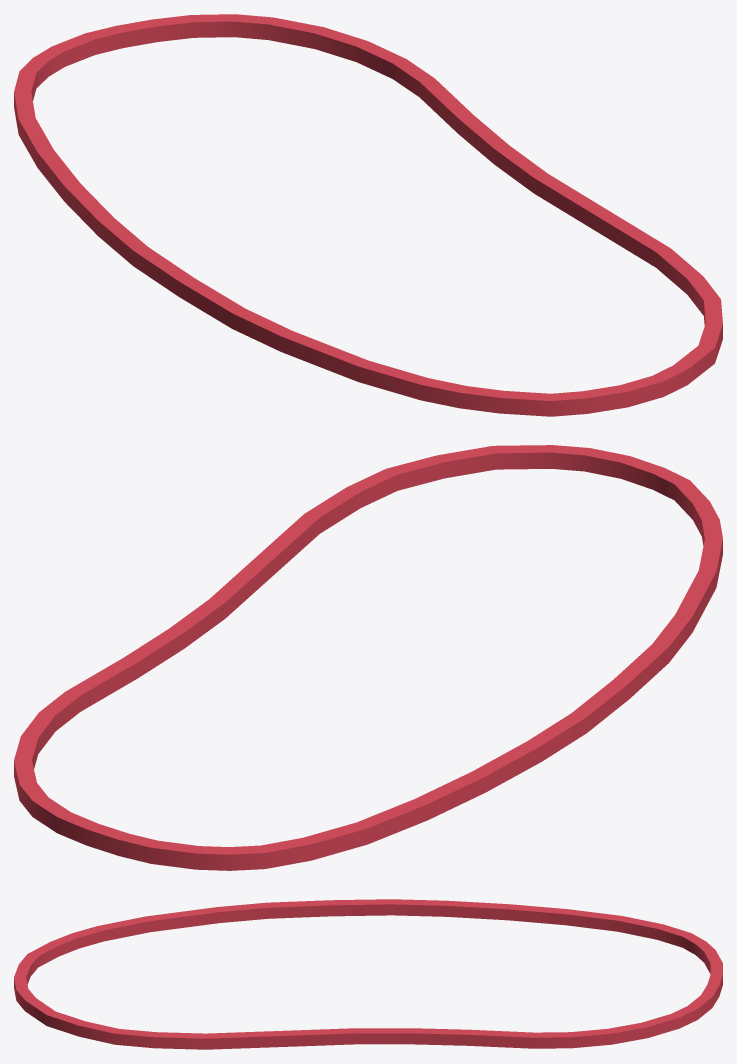
File: RubberBand.fbx
The picture shows the model from 3 angles, top to bottom: view 1: azimuth 30°, elevation 25°; view 2: azimuth 150°, elevation 25°; view 3: azimuth 270°, elevation 25°; orthographic projection. The views are drawn at different scales.
Visible parts, largest first — view 1: RubberBand; view 2: RubberBand; view 3: RubberBand.
Boxes of the visible parts, bbox=[...] form: RubberBand: bbox=[14, 14, 722, 416]; RubberBand: bbox=[14, 445, 722, 870]; RubberBand: bbox=[14, 899, 722, 1049].
Bounding box in the file's own units: 1.07 × 0.0394 × 2.29.
